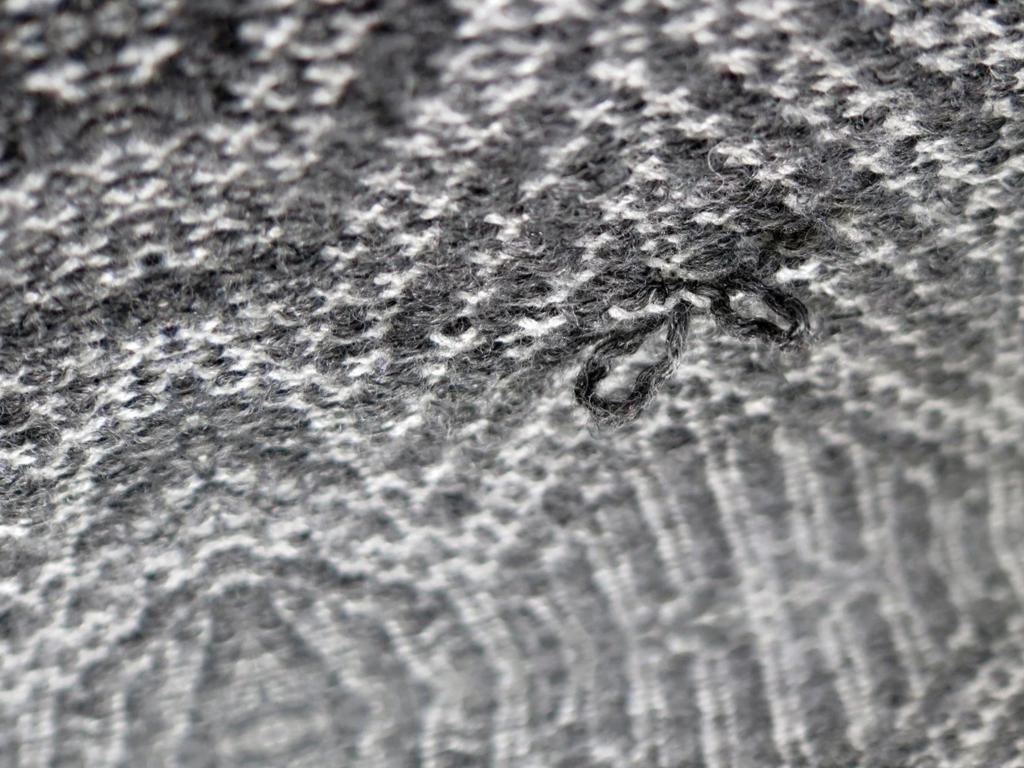snag: (545, 302, 693, 431), (702, 264, 820, 352)
